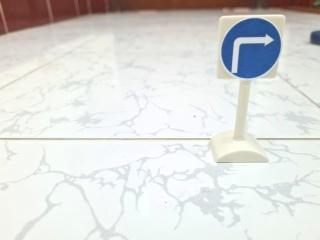right: (214, 8, 289, 84)
